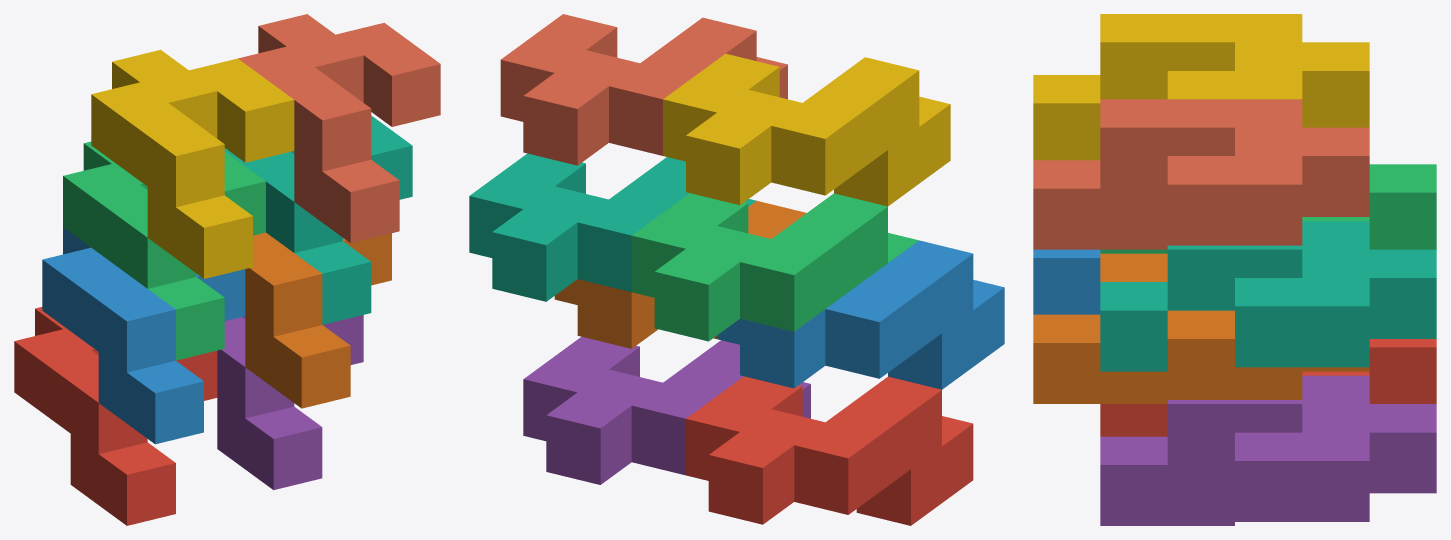
The model's file is tiling.obj.
The picture shows the model from 3 angles, left to right: view 1: azimuth 30°, elevation 25°; view 2: azimuth 150°, elevation 25°; view 3: azimuth 270°, elevation 25°; orthographic projection. The views are drawn at different scales.
Visible parts, largest first — view 1: copy_1_domain_4, copy_1_domain_8, copy_1_domain_2, copy_1_domain_1, copy_1_domain_3, copy_1_domain_6, copy_1_domain_5, copy_1_domain_7; view 2: copy_1_domain_4, copy_1_domain_1, copy_1_domain_3, copy_1_domain_2, copy_1_domain_8, copy_1_domain_5, copy_1_domain_7, copy_1_domain_6; view 3: copy_1_domain_8, copy_1_domain_5, copy_1_domain_7, copy_1_domain_4, copy_1_domain_6, copy_1_domain_1, copy_1_domain_3, copy_1_domain_2.
Boxes of the visible parts, x1,y1,x2,y2 form: copy_1_domain_4: (91, 49, 294, 278); copy_1_domain_8: (238, 14, 440, 243); copy_1_domain_2: (42, 227, 245, 444); copy_1_domain_1: (14, 307, 217, 525); copy_1_domain_3: (63, 141, 265, 360); copy_1_domain_6: (245, 232, 391, 408); copy_1_domain_5: (217, 315, 363, 490); copy_1_domain_7: (224, 115, 412, 324); copy_1_domain_4: (663, 53, 950, 206); copy_1_domain_1: (686, 376, 973, 525); copy_1_domain_3: (631, 193, 918, 341); copy_1_domain_2: (717, 240, 1004, 389); copy_1_domain_8: (500, 14, 787, 165); copy_1_domain_5: (523, 336, 810, 484); copy_1_domain_7: (469, 153, 756, 301); copy_1_domain_6: (554, 201, 806, 348); copy_1_domain_8: (1033, 99, 1369, 249); copy_1_domain_5: (1100, 375, 1436, 525); copy_1_domain_7: (1100, 221, 1436, 371); copy_1_domain_4: (1033, 14, 1369, 160); copy_1_domain_6: (1033, 253, 1369, 403); copy_1_domain_1: (1100, 339, 1436, 436); copy_1_domain_3: (1100, 164, 1436, 253); copy_1_domain_2: (1033, 249, 1100, 314).
Size of the model in its own units: 7 by 7 by 6.
